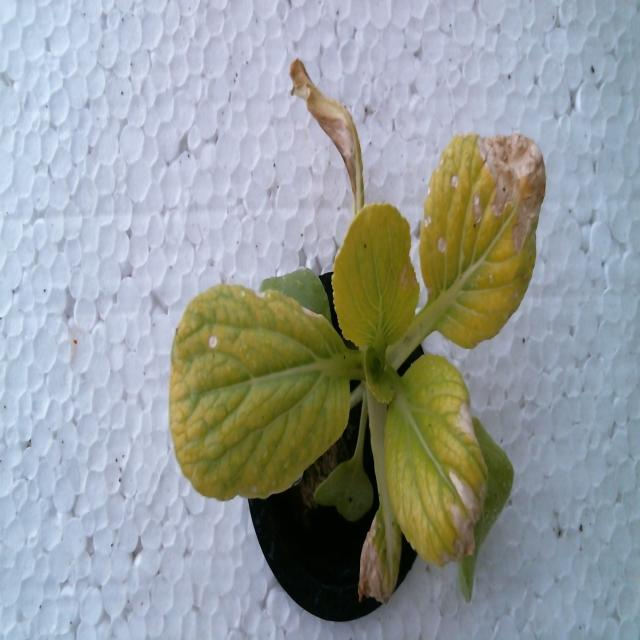pakcoy_tidak_sehat: (171, 49, 556, 616)
